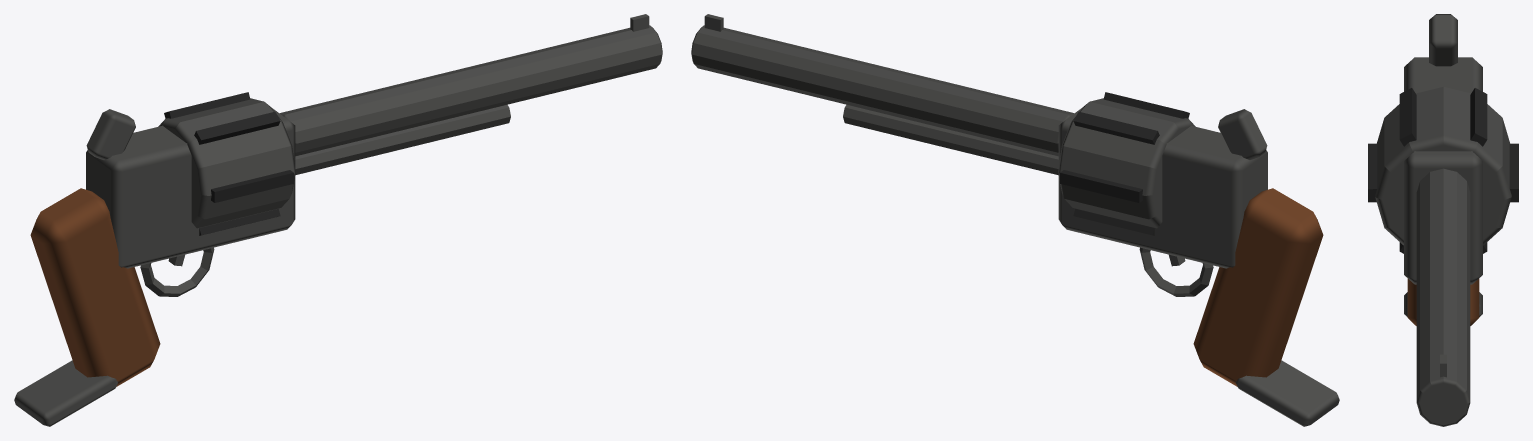
File: FindPistol.glb
The picture shows the model from 3 angles, left to right: view 1: azimuth 30°, elevation 25°; view 2: azimuth 150°, elevation 25°; view 3: azimuth 270°, elevation 25°; orthographic projection. The views are drawn at different scales.
Visible parts, largest first — view 1: Pistol_1.001; view 2: Pistol_1.001; view 3: Pistol_1.001.
Part boxes in pixels (x1=…): Pistol_1.001: x1=14, y1=14, x2=662, y2=426; Pistol_1.001: x1=691, y1=14, x2=1339, y2=426; Pistol_1.001: x1=1368, y1=14, x2=1518, y2=426.
Bounding box in the file's own units: 0.2366 × 0.1038 × 0.042.
